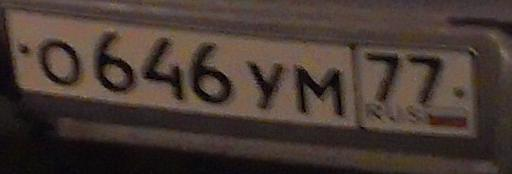license-plateSW: (4, 6, 480, 141)
